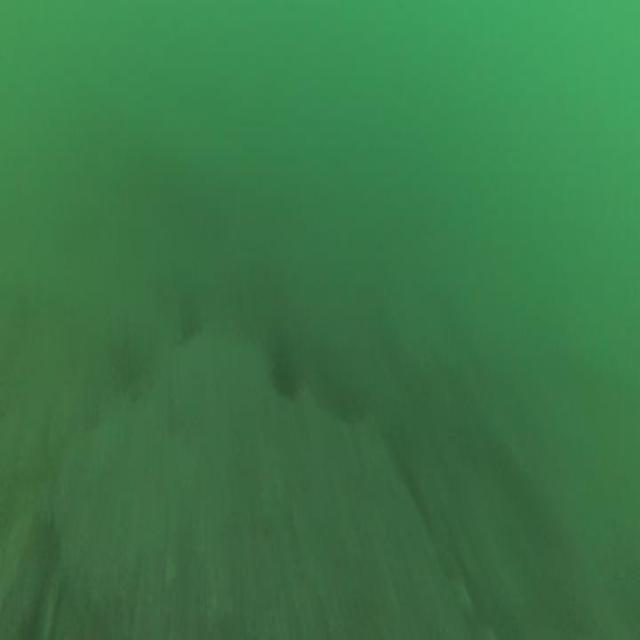echinus: (270, 351, 299, 398)
